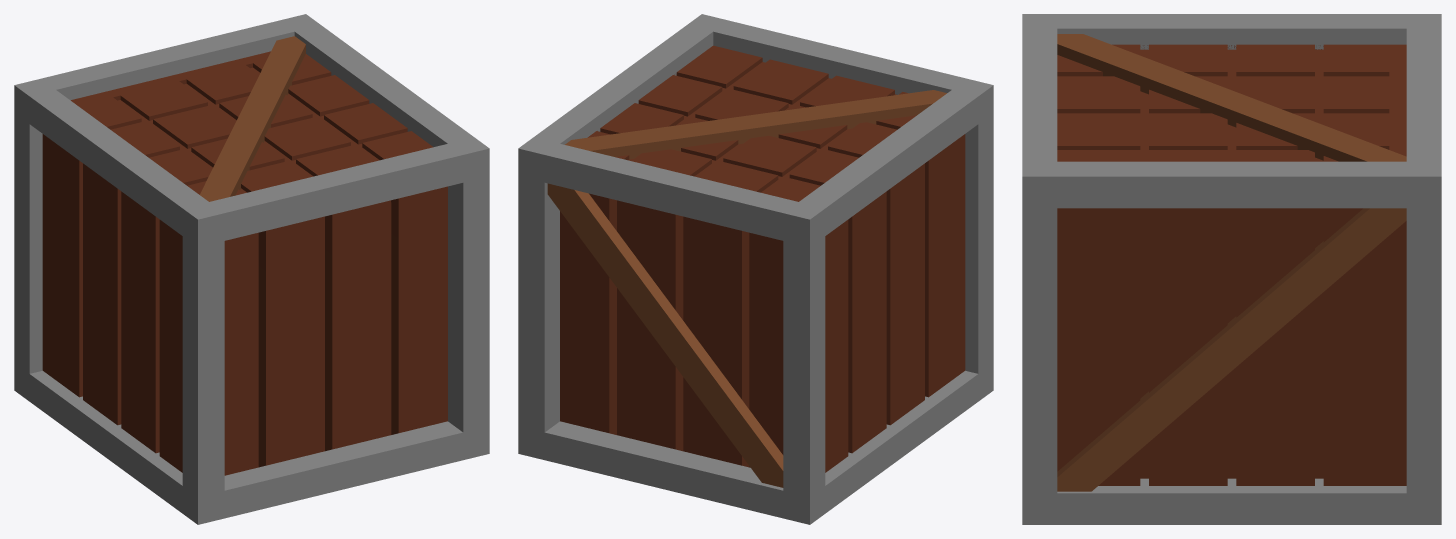
Rendered from Dungeon_Crate.glb.
The picture shows the model from 3 angles, left to right: view 1: azimuth 30°, elevation 25°; view 2: azimuth 150°, elevation 25°; view 3: azimuth 270°, elevation 25°; orthographic projection. The views are drawn at different scales.
Visible parts, largest first — view 1: Crate; view 2: Crate; view 3: Crate.
Boxes of the visible parts, bbox=[...] form: Crate: bbox=[14, 14, 489, 524]; Crate: bbox=[518, 14, 993, 524]; Crate: bbox=[1022, 14, 1441, 524].
Bounding box in the file's own units: 2.2 × 2.2 × 2.4.
